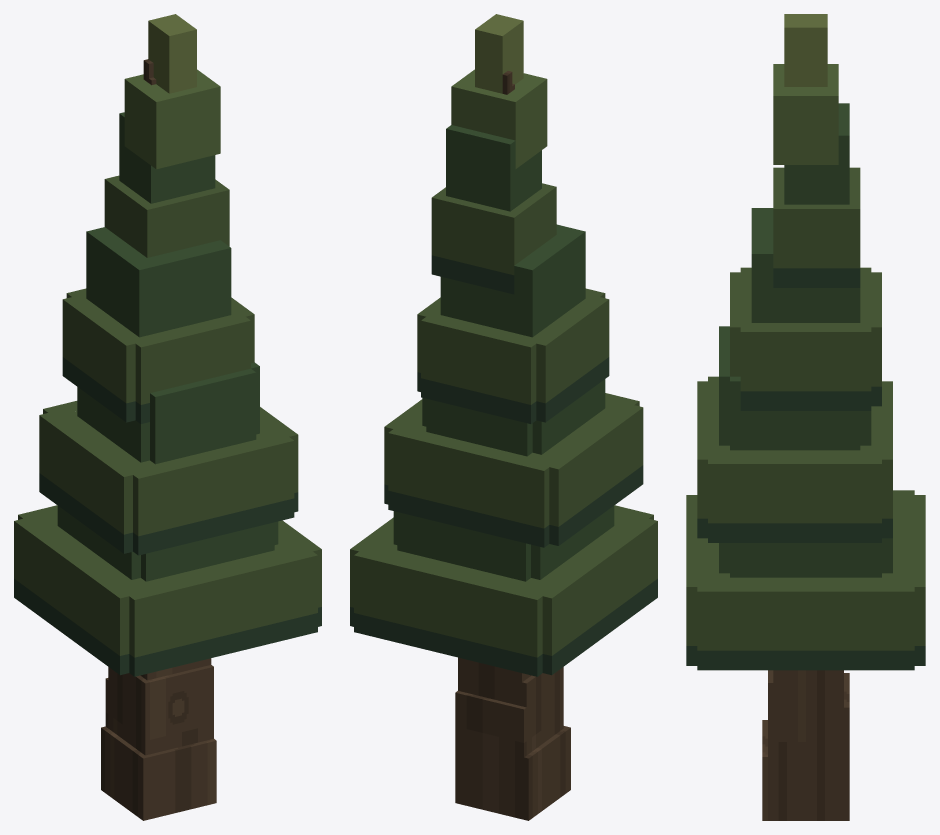
Rendered from pine_mature.glb.
3 renders of one model, left to right at view 1: azimuth 30°, elevation 25°; view 2: azimuth 150°, elevation 25°; view 3: azimuth 270°, elevation 25°, orthographic. The views are drawn at different scales.
Parts seen in each view (by area): view 1: VoxelVisual; view 2: VoxelVisual; view 3: VoxelVisual.
Boxes of the visible parts, x1,y1,x2,y2 form: VoxelVisual: (14,14,321,820); VoxelVisual: (350,14,657,820); VoxelVisual: (686,14,925,820).
Size of what is drawn, in the model's own units: 5.5 by 20 by 5.5.
